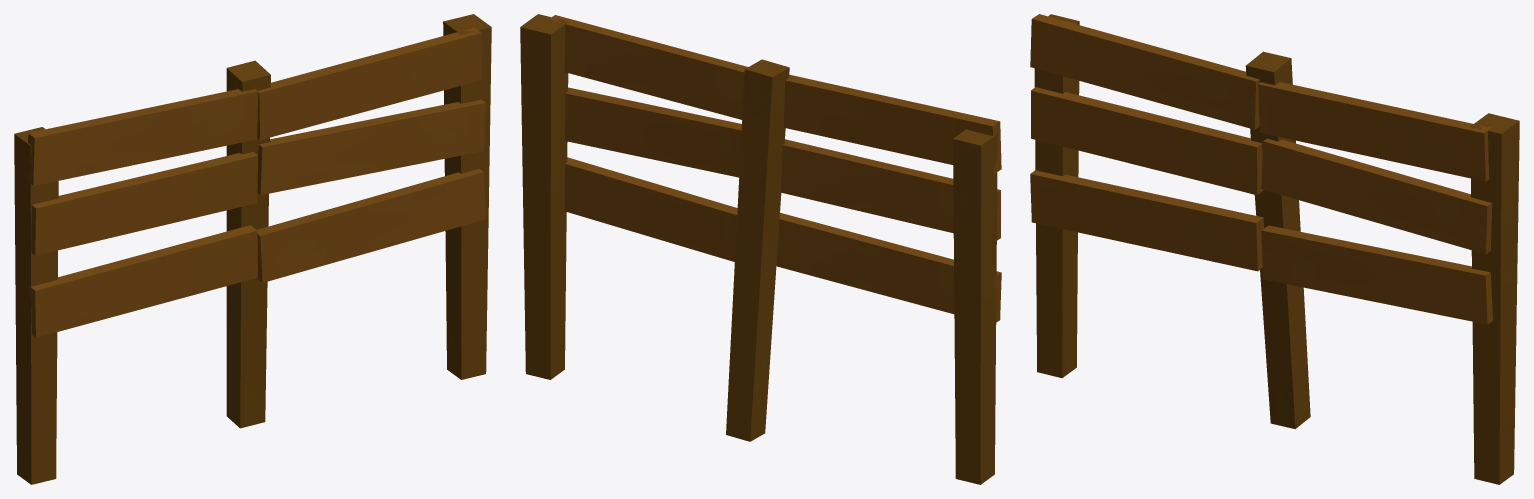
The model's file is Fencing_Wood.fbx.
3 renders of one model, left to right at view 1: azimuth 30°, elevation 25°; view 2: azimuth 150°, elevation 25°; view 3: azimuth 330°, elevation 25°, orthographic.
Visible parts, largest first — view 1: Fencing_Wood; view 2: Fencing_Wood; view 3: Fencing_Wood.
Part boxes in pixels (bbox=[...]): Fencing_Wood: bbox=[14, 14, 491, 484]; Fencing_Wood: bbox=[520, 14, 1001, 484]; Fencing_Wood: bbox=[1030, 14, 1519, 484].
Bounding box in the file's own units: 0.6058 × 0.4543 × 0.0696.
